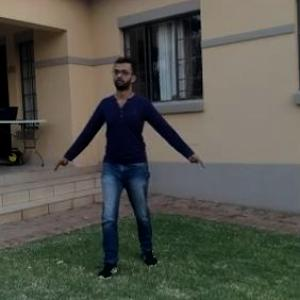land: (63, 64, 198, 262)
